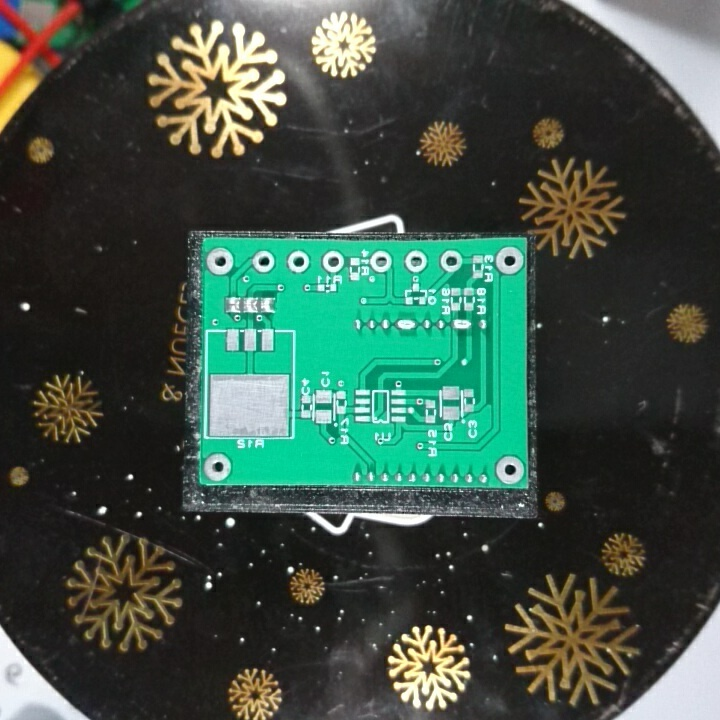F: (492, 245, 526, 277), (494, 454, 527, 484), (206, 247, 237, 275), (204, 453, 235, 480), (285, 247, 314, 275), (439, 247, 466, 276), (368, 249, 395, 277), (320, 248, 347, 276), (401, 250, 431, 275), (251, 248, 276, 274)
P: (395, 313, 423, 338), (450, 314, 476, 338)
